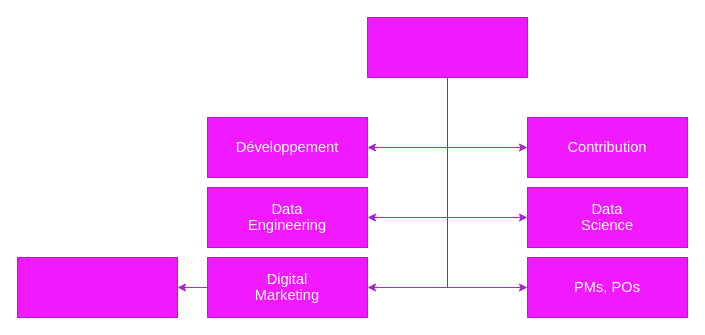
Image size: 705x335. Some labels were removed from this diagram. The centre of each missing label's shape, as x and y in pixels:
"Directeur Transformation Digitale" goes at pixel 447 47.
"Stagaire Digital Analytics et CRO" goes at pixel 97 287.
